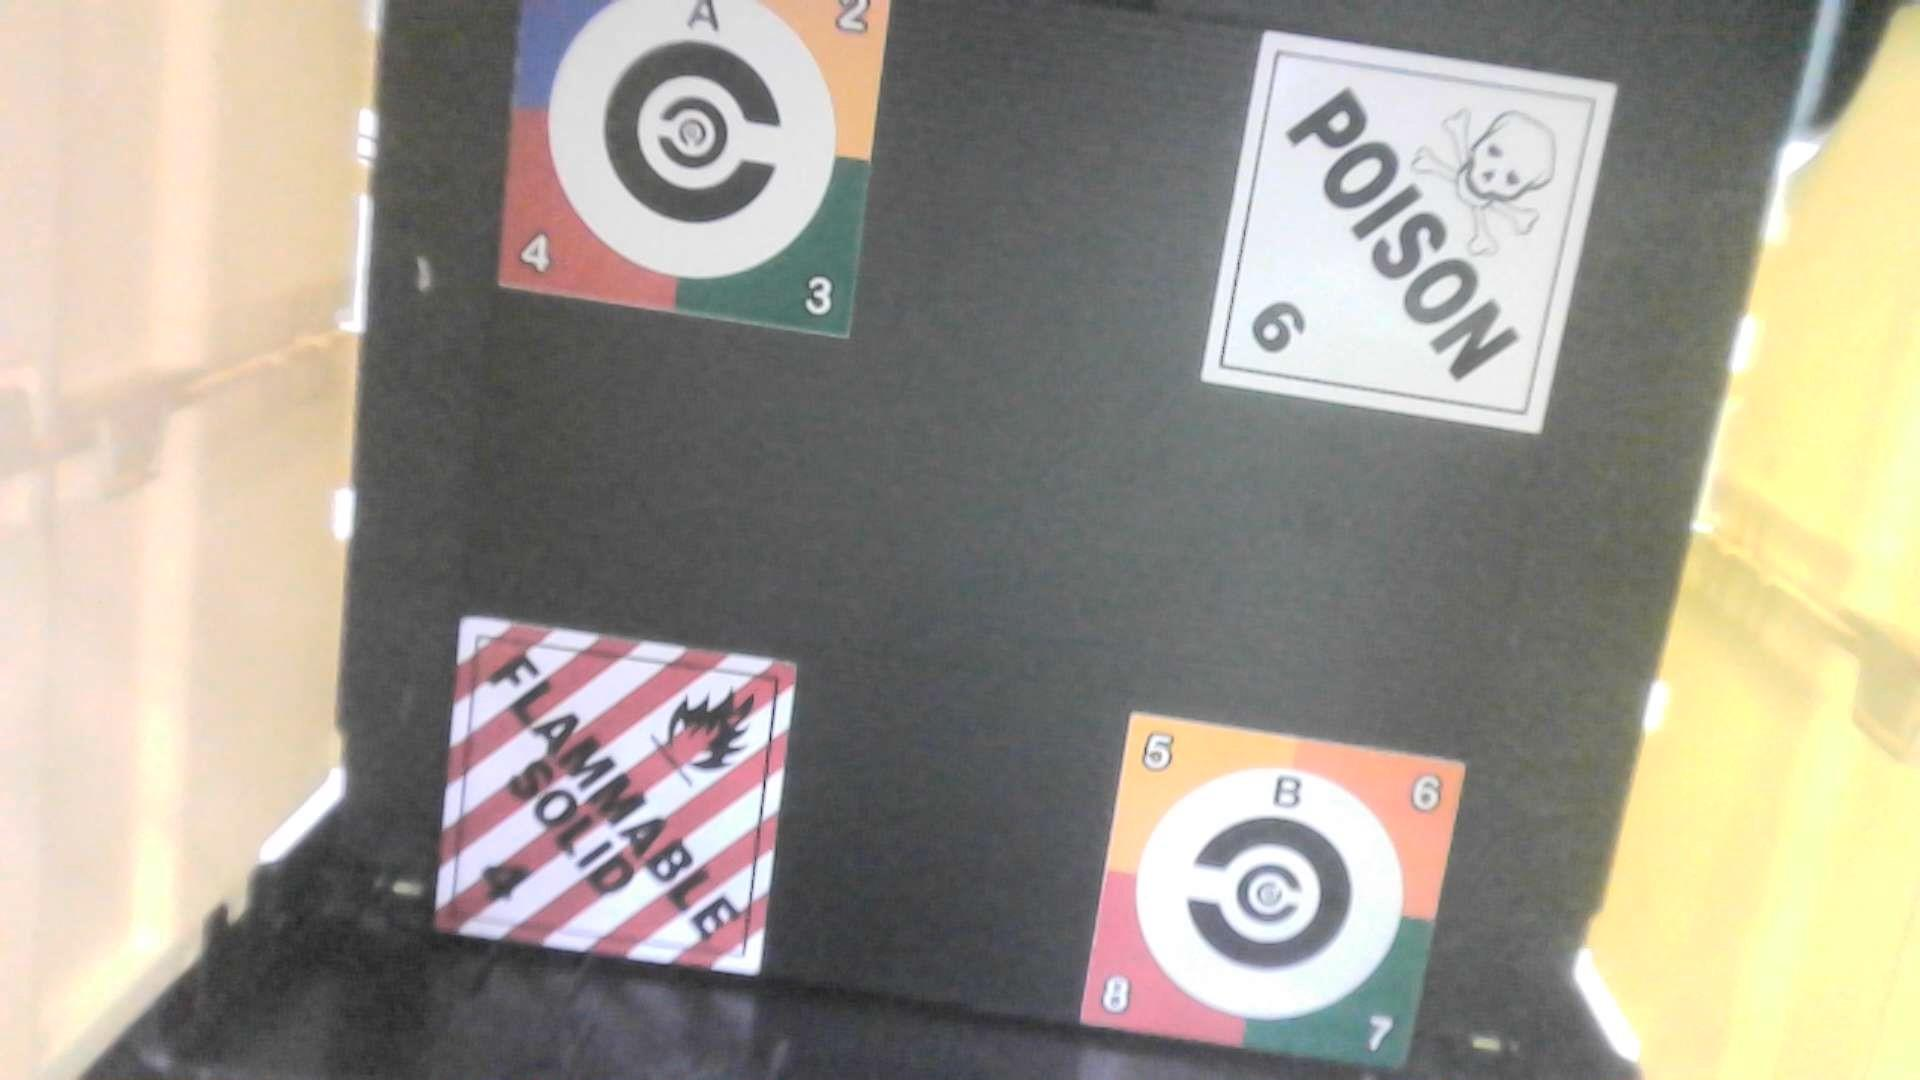flammable-solid: (436, 616, 804, 982)
poison: (1199, 29, 1615, 435)
